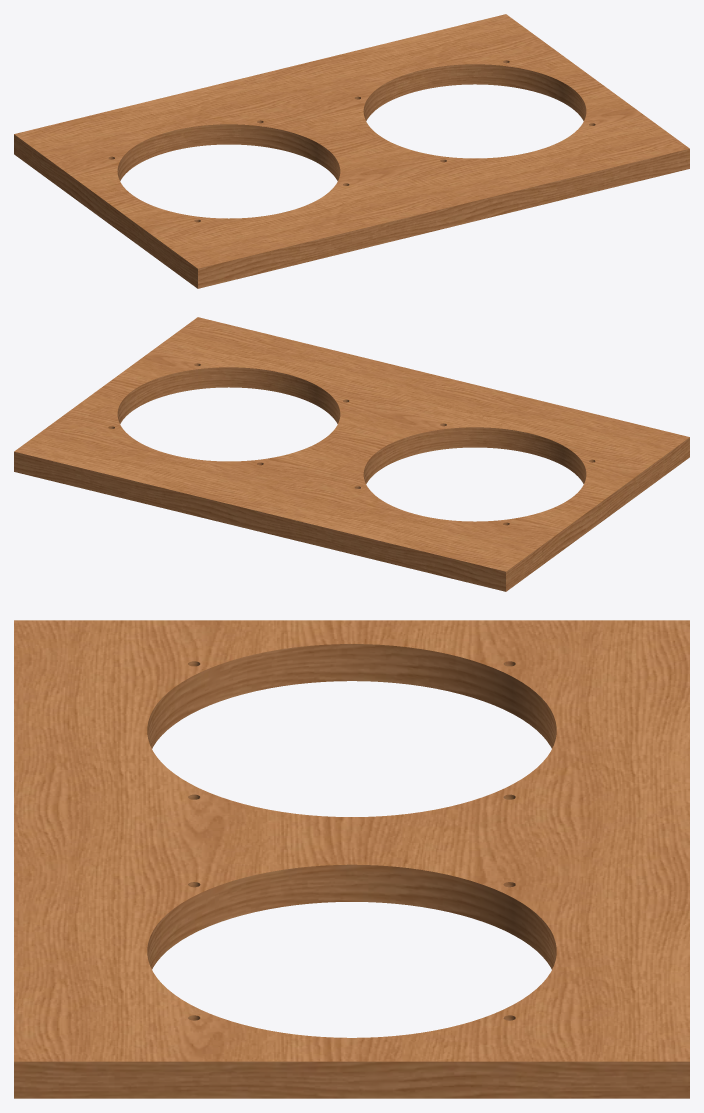
The model's file is fan-dock.glb.
3 views of the same model, one above another, from view 1: azimuth 30°, elevation 25°; view 2: azimuth 150°, elevation 25°; view 3: azimuth 270°, elevation 25° (orthographic). The views are drawn at different scales.
Bounding box in the file's own units: 0.51 × 0.02 × 0.33.
1 material, 1 textured.
